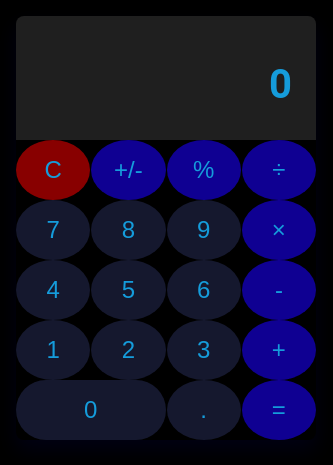
Scenario: Calculator › should clear the display when C is clicked
Click the button "5" at (128, 290), box x1=91 y1=260 x2=166 y2=320
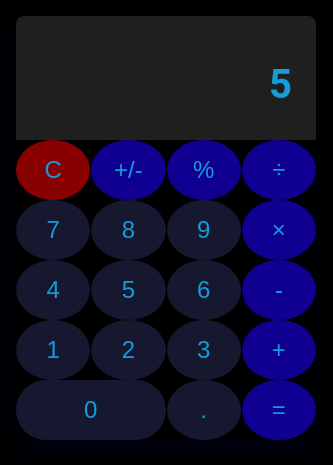
Click the button "C" at (53, 170), box x1=16 y1=140 x2=90 y2=200
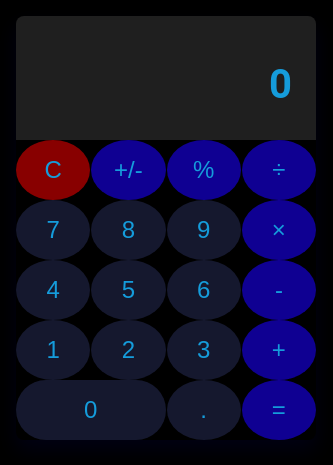
Result: the text with test id "display" reads "0" at x1=269 y1=61 x2=292 y2=108
